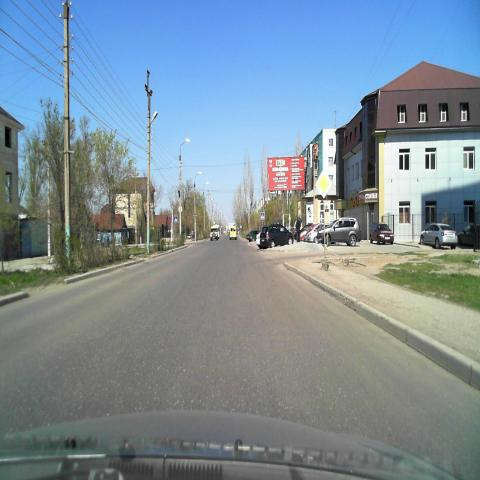2_1: (315, 170, 333, 198)
5_19_1: (259, 212, 264, 220), (174, 215, 177, 223)
